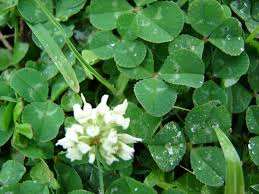clover: (145, 100, 232, 186), (115, 44, 205, 118), (9, 68, 66, 142)
clover blossom white: (54, 90, 145, 168)
